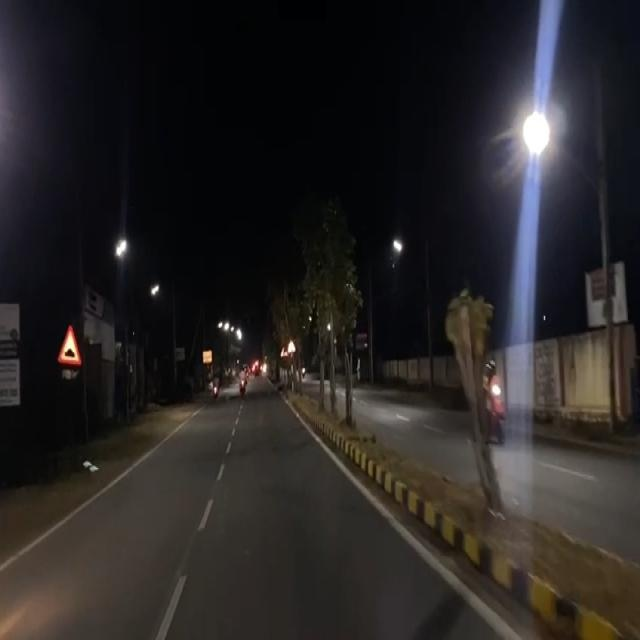bien_nguy_hiem: (55, 322, 82, 369)
